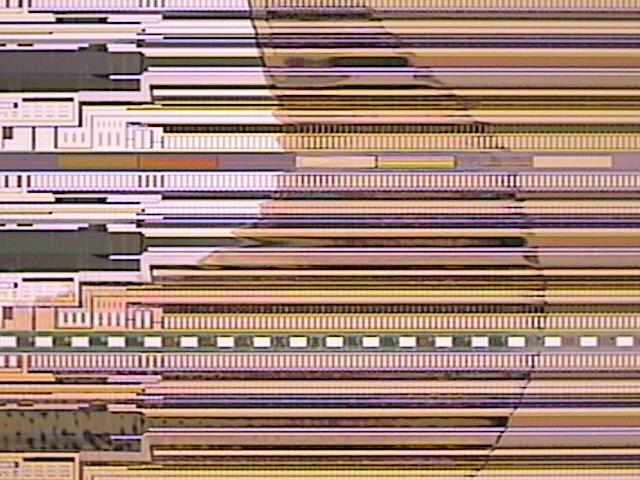COATING BAD: (1, 1, 555, 480)
